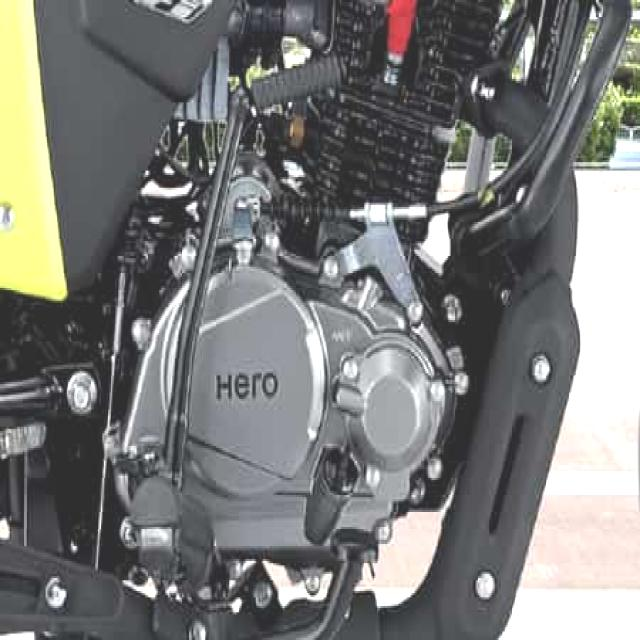MOTORCYCLE: (0, 1, 590, 637)
